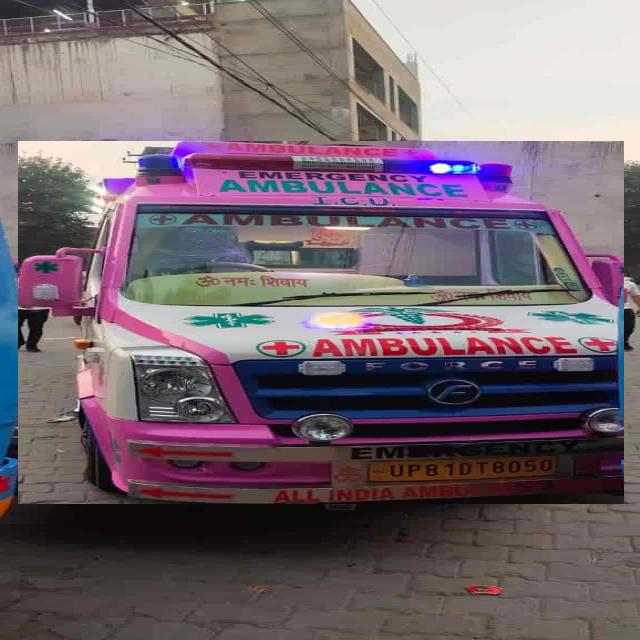emergency: (18, 142, 623, 504)
